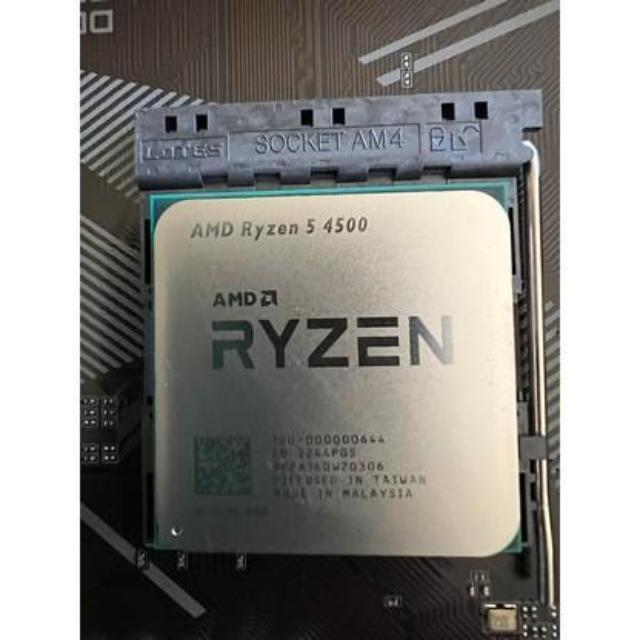CPU: (150, 194, 522, 562)
